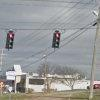Traffic light: (4, 23, 69, 52)
